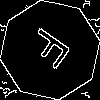F: (25, 25, 80, 76)
